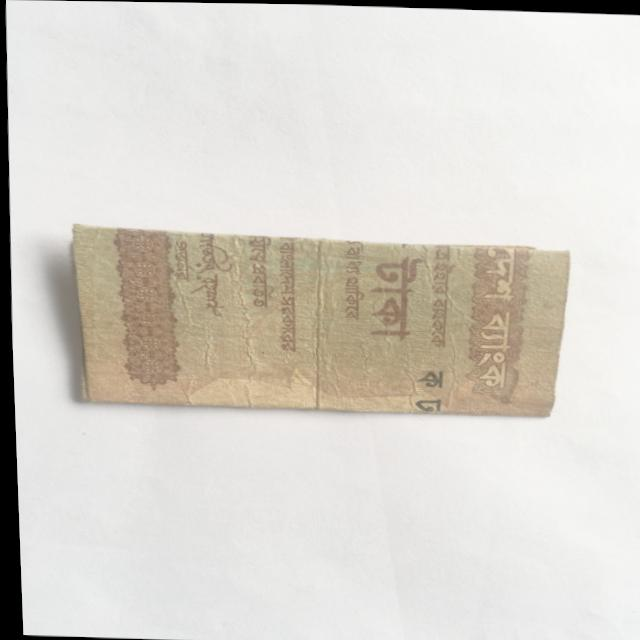Taka: (67, 214, 574, 420)
